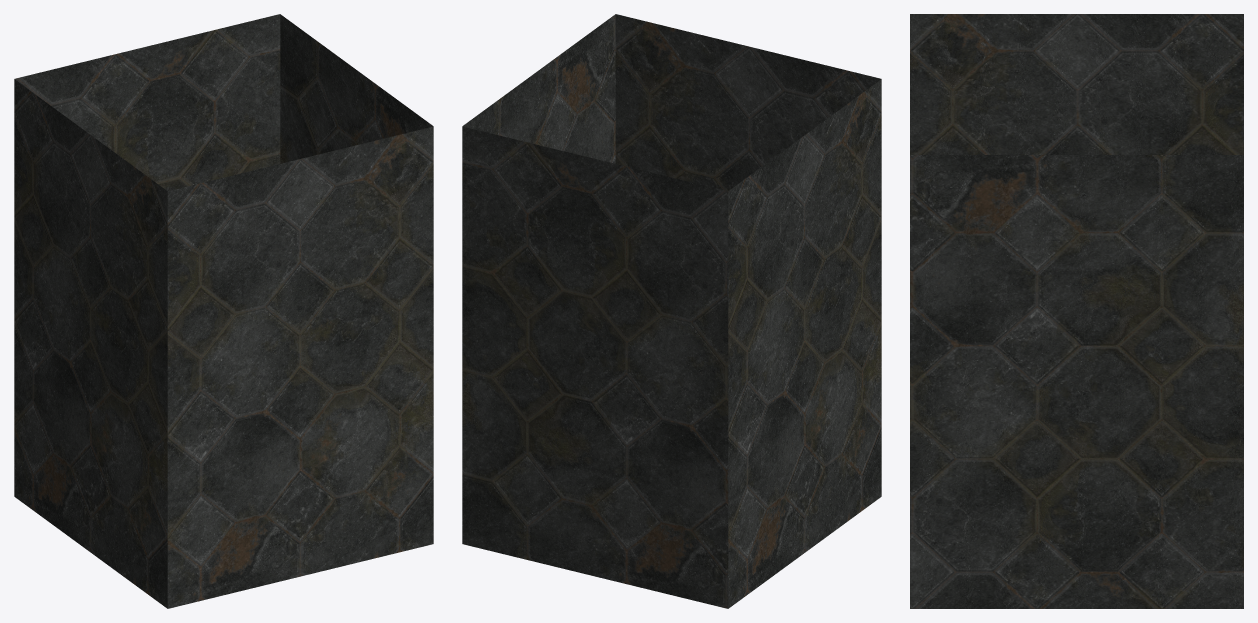
Rendered from pillar.obj.
3 renders of one model, left to right at view 1: azimuth 30°, elevation 25°; view 2: azimuth 150°, elevation 25°; view 3: azimuth 270°, elevation 25°, orthographic. The views are drawn at different scales.
Parts seen in each view (by area): view 1: Pillar0; view 2: Pillar0; view 3: Pillar0.
Boxes of the visible parts, <box> form: Pillar0: <box>14,14,433,608</box>; Pillar0: <box>462,14,881,608</box>; Pillar0: <box>910,14,1243,608</box>.
Size of the model in its own units: 4 by 6 by 4.
Materials: 1 (1 with a texture image).
